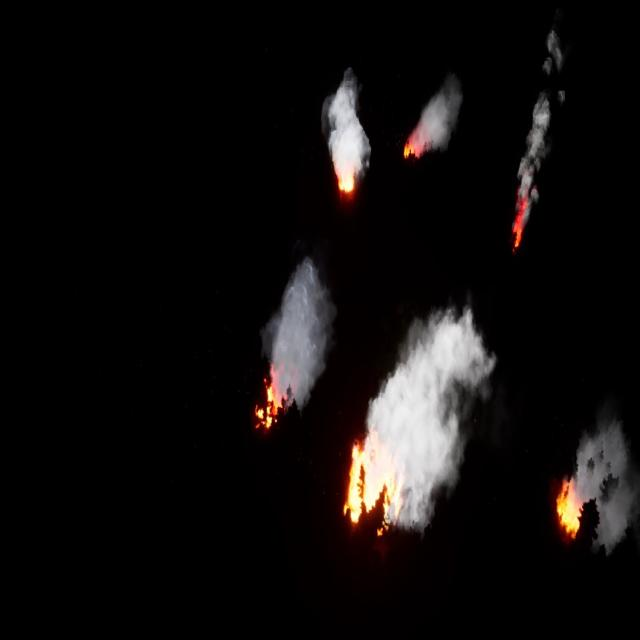fire: (340, 443, 404, 536), (554, 473, 586, 538), (255, 370, 289, 423), (512, 200, 529, 256), (336, 166, 356, 191), (403, 133, 421, 157)
smoke: (367, 301, 494, 524), (262, 257, 338, 397), (575, 418, 635, 558), (516, 30, 564, 195), (322, 68, 370, 174), (415, 80, 461, 154)
